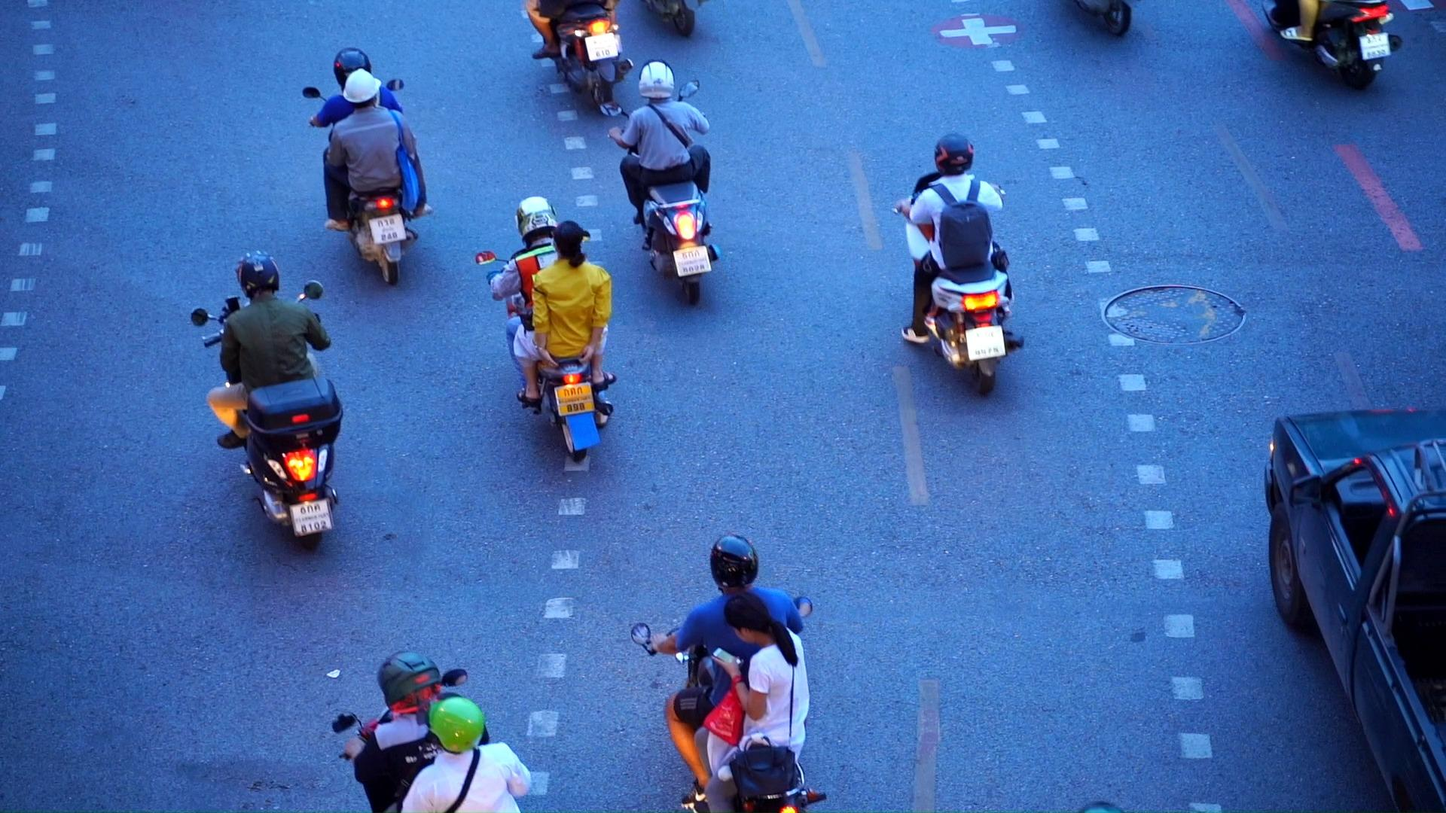driver: (632, 533, 826, 813), (190, 249, 344, 550), (476, 196, 618, 464), (891, 132, 1024, 395), (331, 650, 532, 813), (303, 47, 433, 285), (608, 59, 721, 307), (1260, 0, 1404, 91), (526, 0, 634, 115)
helmet: (416, 692, 485, 755), (377, 650, 442, 714), (710, 533, 759, 591), (234, 249, 280, 301), (515, 196, 558, 246), (935, 132, 974, 175), (334, 47, 371, 92), (343, 68, 382, 109), (639, 59, 675, 99)
no-helmet: (725, 593, 797, 648), (551, 220, 585, 268)
